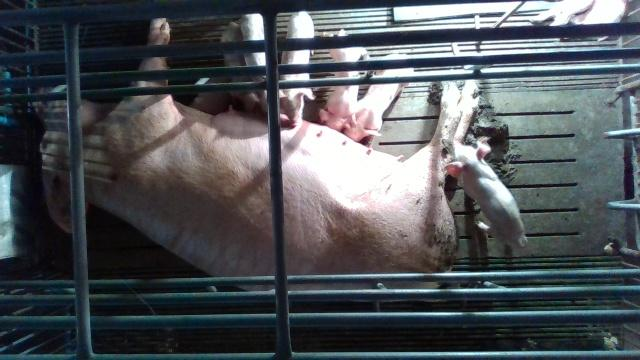piglet: (442, 138, 529, 246), (344, 53, 413, 142), (318, 28, 368, 133), (277, 10, 317, 128), (220, 22, 256, 109), (241, 14, 270, 115)
sow-sleep-lactate: (34, 17, 478, 290)
